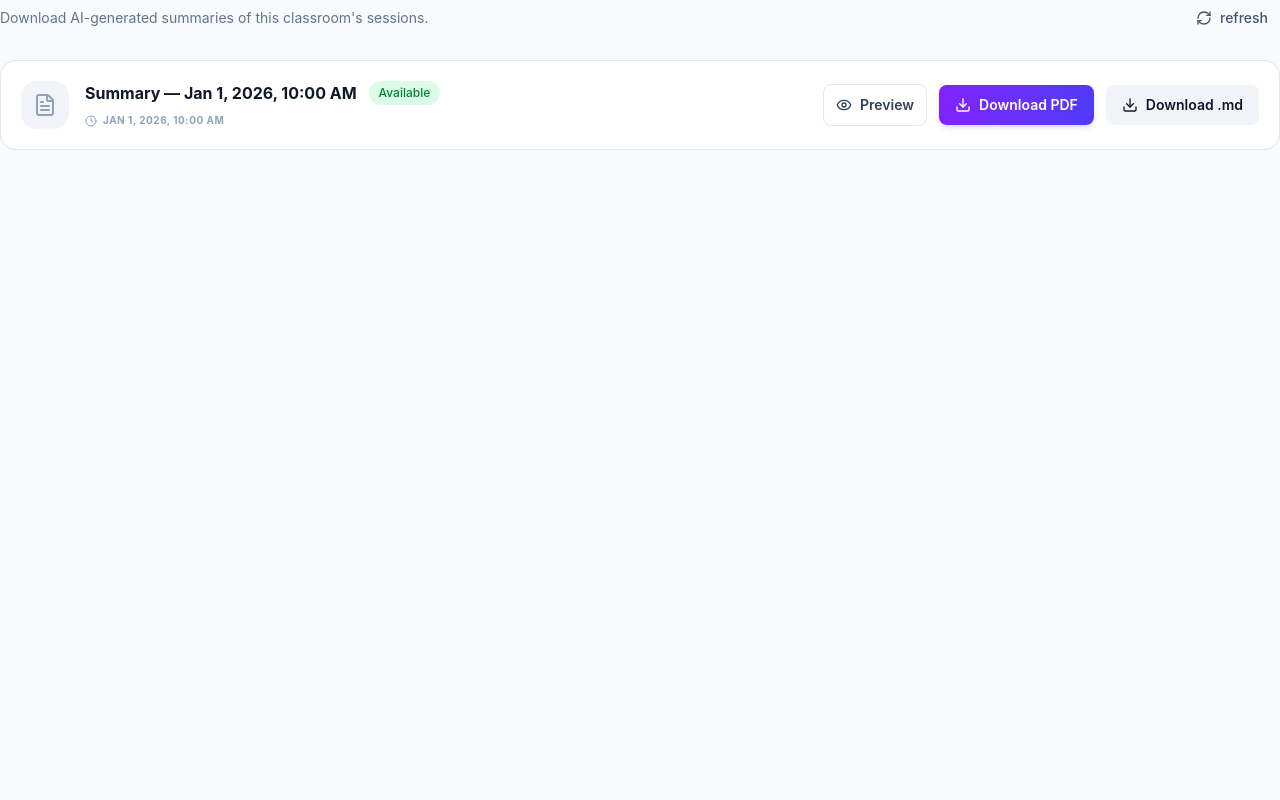
it: SummariesList › preview fetches the MD artifact and renders it read-only and sanitized
Step 1. Click the button with aria-label "preview summary" → (875, 105), box [823,84,927,126]
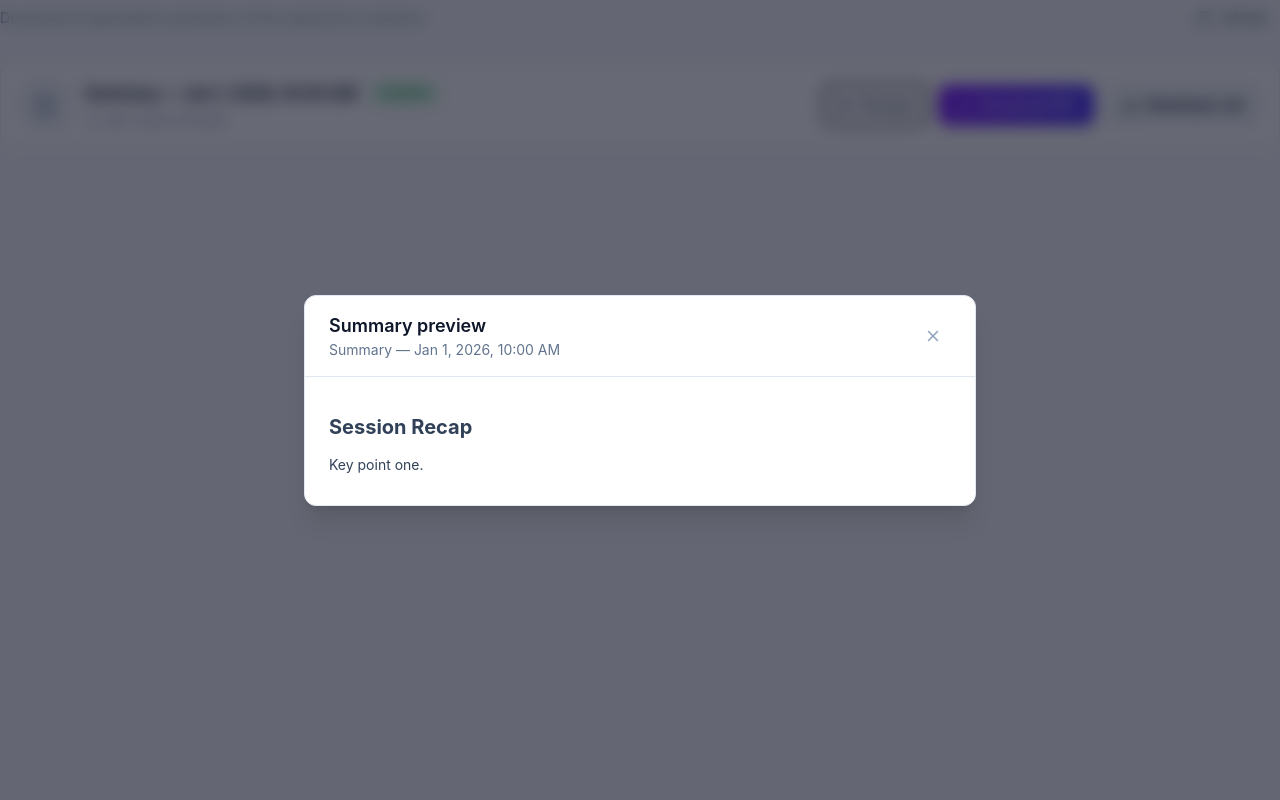
Check: the heading "Session Recap" is shown, box [329,414,472,438]
